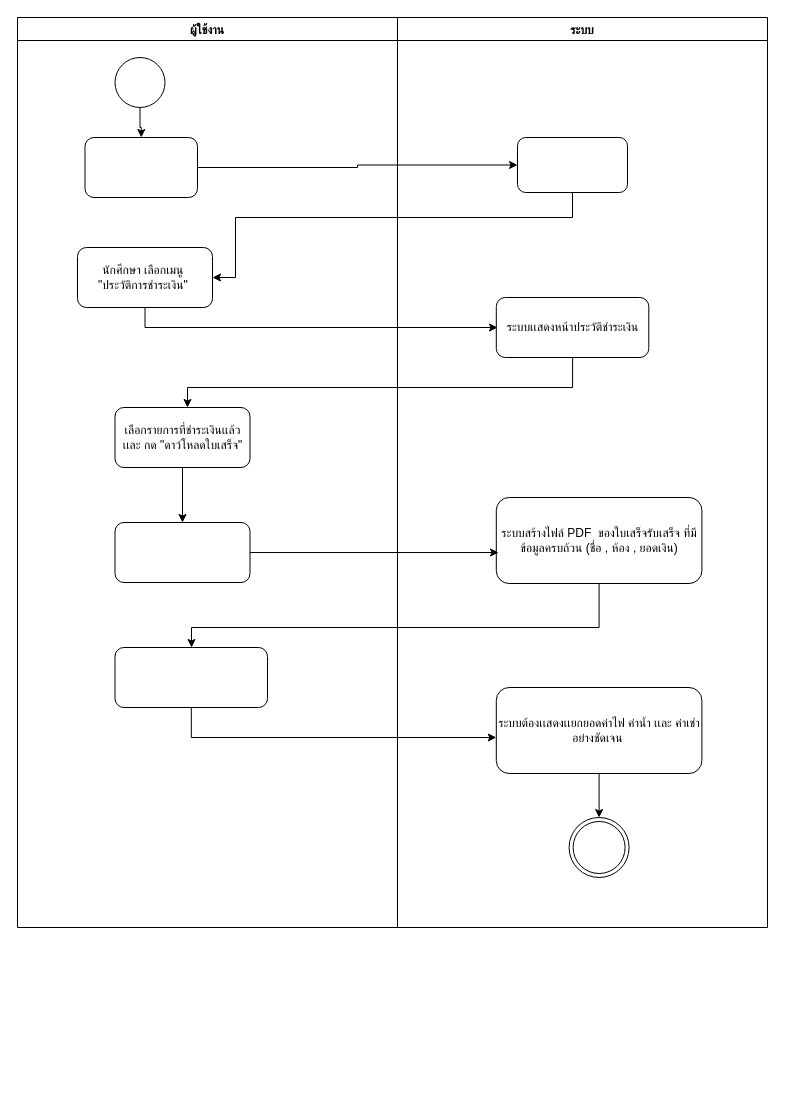
The diagram is 785 pixels wide and 1093 high, and some of its shapes have lost their labels. The shapes that lost their labels are listed below. From the top down, each one's centre as x and y in pixels, then its label:
point (141, 167): เปิดหน้าเว็บไซต์
point (572, 164): เเสดงหน้าเข้าสู่ระบบ
point (182, 552): กดปุ่ม "ดาว์โหลดใบเสร็จ"
point (191, 677): นักศึกษา ดูหน้า Dashboard
